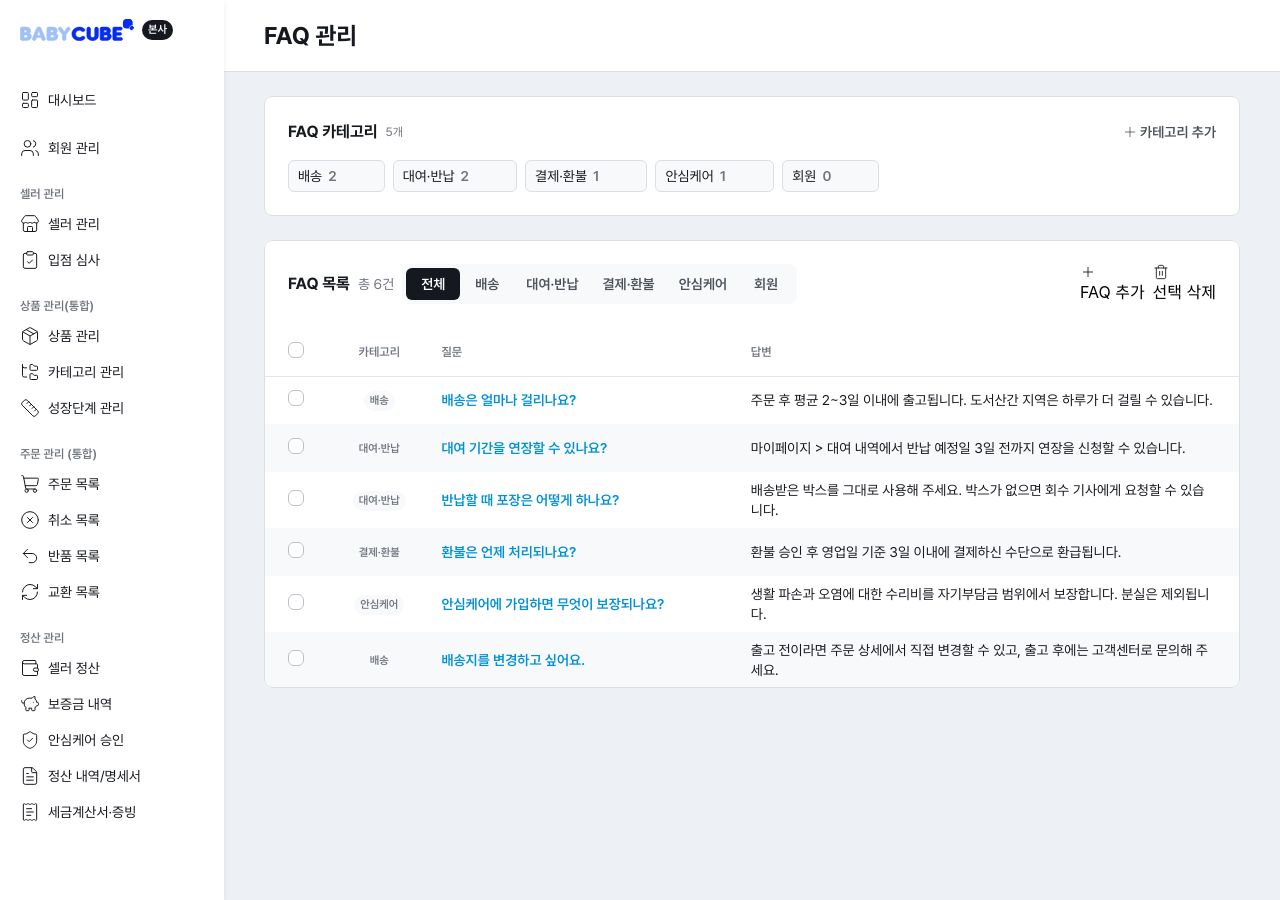
Test: FaqListPage › 카테고리 칩 — 목록 필터 › 고른 카테고리의 FAQ만 남는다
Step 1. Click the radio button labelled "대여·반납" → (552,284), box [514,268,590,300]
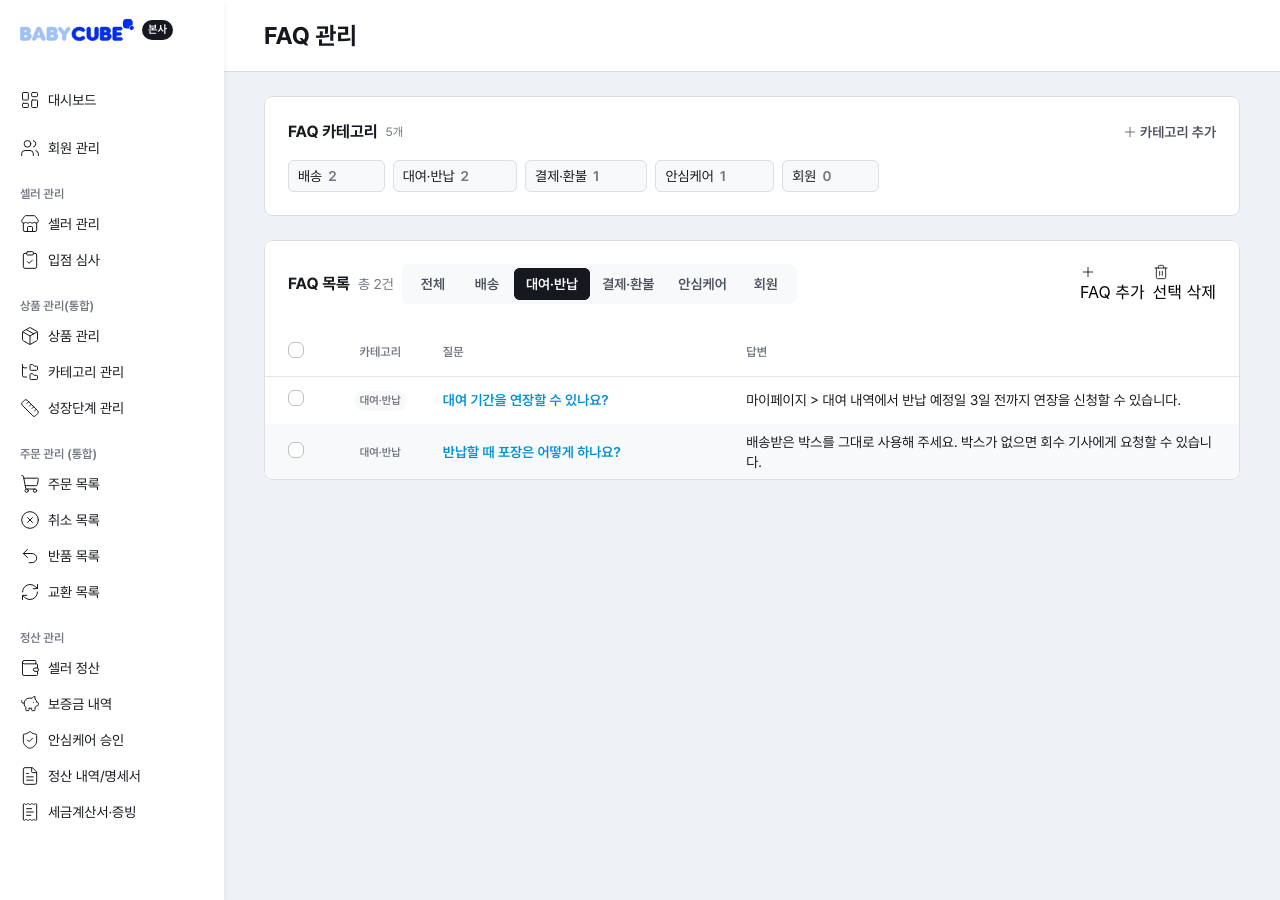
Result: the text "총 2건" is shown at [358,274,394,294]
